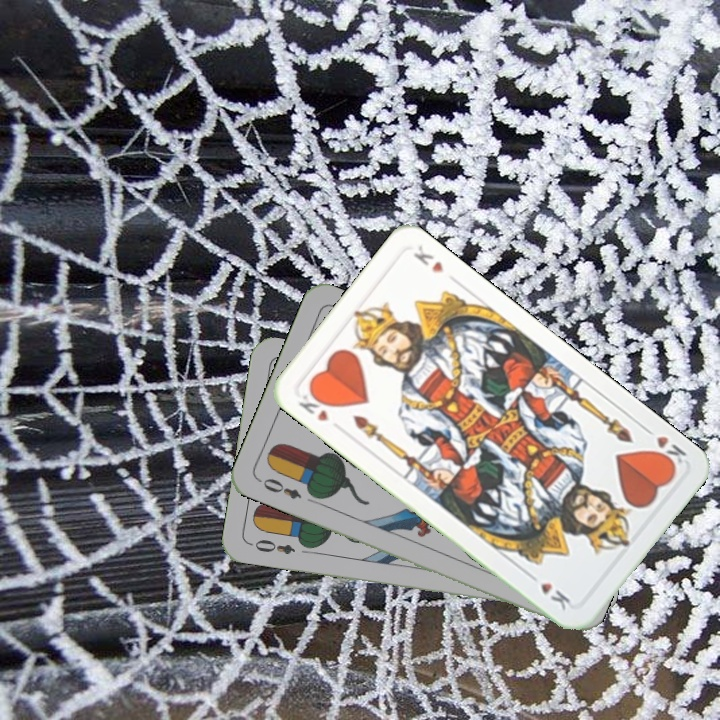EO: (254, 474, 304, 502), (246, 535, 298, 558)
HK: (639, 422, 689, 471), (294, 384, 334, 424)
